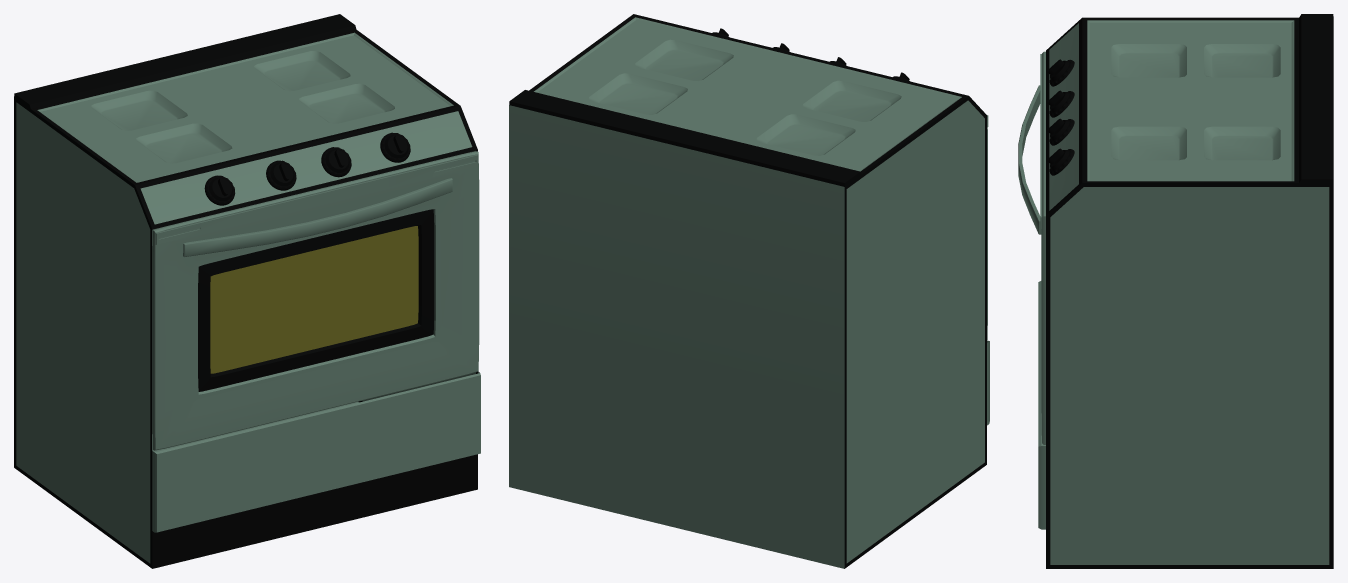
The model's file is StoveBase1.fbx.
The picture shows the model from 3 angles, left to right: view 1: azimuth 30°, elevation 25°; view 2: azimuth 150°, elevation 25°; view 3: azimuth 270°, elevation 25°; orthographic projection. The views are drawn at different scales.
Visible parts, largest first — view 1: Stove1, StoveTopDoor1, StoveTopGas, StoveBottomDoor1; view 2: Stove1, StoveTopGas; view 3: Stove1, StoveTopGas, StoveTopDoor1, StoveBottomDoor1.
Boxes of the visible parts, x1,y1,x2,y2 form: Stove1: (14,14,477,568); StoveTopDoor1: (152,151,479,450); StoveTopGas: (40,35,450,182); StoveBottomDoor1: (152,371,480,532); Stove1: (509,14,986,568); StoveTopGas: (537,20,958,171); Stove1: (1046,14,1333,568); StoveTopGas: (1089,22,1291,181); StoveTopDoor1: (1018,51,1045,444); StoveBottomDoor1: (1038,281,1045,529).
Bounding box in the file's own units: 85 × 93.38 × 68.5.
